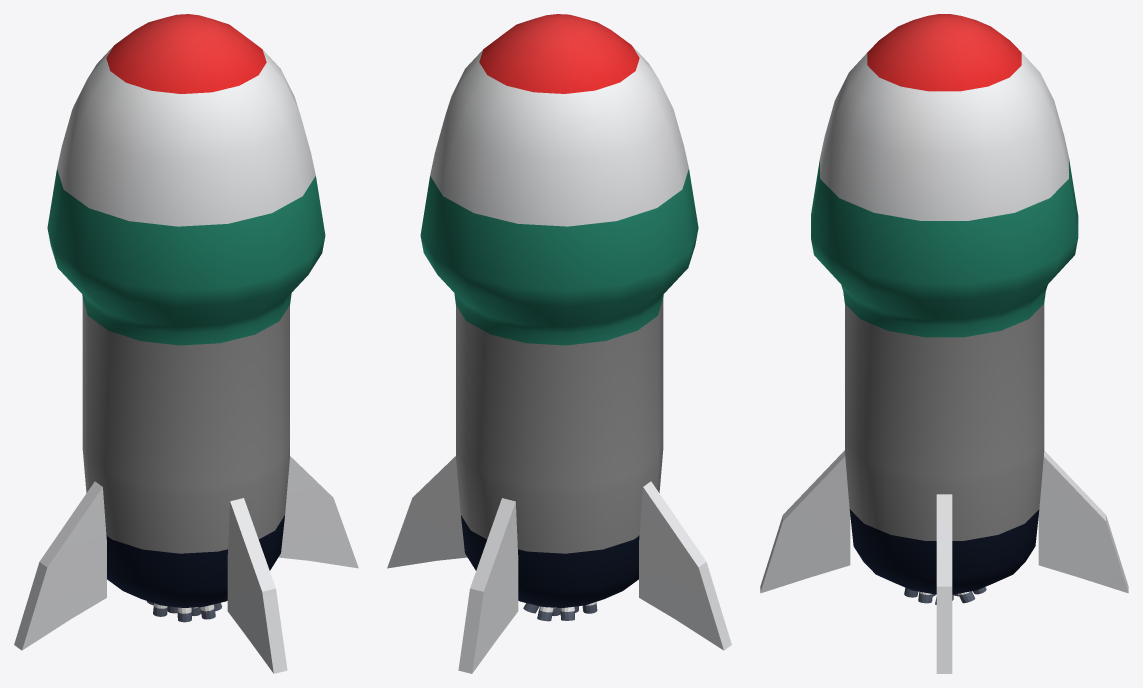
Rendered from F_P_Fireworks_5_1.FBX.
The picture shows the model from 3 angles, left to right: view 1: azimuth 30°, elevation 25°; view 2: azimuth 150°, elevation 25°; view 3: azimuth 270°, elevation 25°; orthographic projection. The views are drawn at different scales.
Parts seen in each view (by area): view 1: F_P_Fireworks_5_1; view 2: F_P_Fireworks_5_1; view 3: F_P_Fireworks_5_1.
Part boxes in pixels (x1,y1,x2,y2): F_P_Fireworks_5_1: (14,14,358,673); F_P_Fireworks_5_1: (387,14,731,673); F_P_Fireworks_5_1: (760,14,1128,673).
Bounding box in the file's own units: 78.25 × 131 × 75.78.
